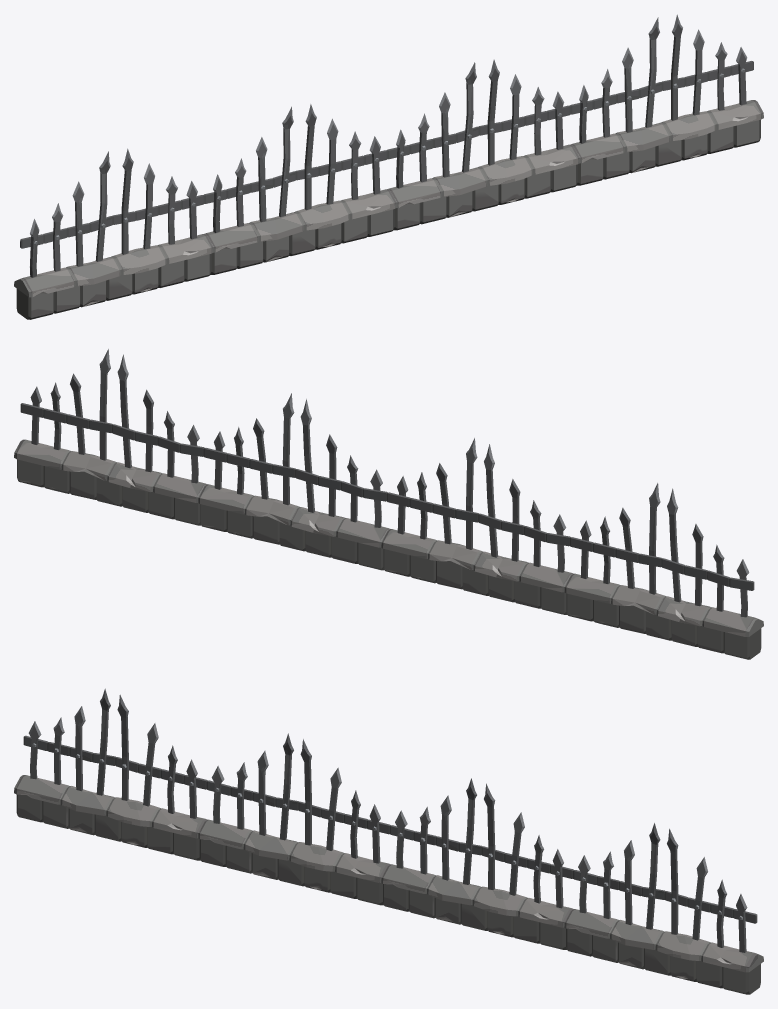
File: crypt_fence.gltf
3 renders of one model, top to bottom at view 1: azimuth 30°, elevation 25°; view 2: azimuth 150°, elevation 25°; view 3: azimuth 330°, elevation 25°, orthographic.
Visible parts, largest first — view 1: crypt_fence; view 2: crypt_fence; view 3: crypt_fence.
Boxes of the visible parts, bbox=[...] form: crypt_fence: bbox=[14, 14, 763, 319]; crypt_fence: bbox=[14, 349, 763, 659]; crypt_fence: bbox=[14, 688, 763, 994].
Bounding box in the file's own units: 10.03 × 1.91 × 0.4143.
1 material, 1 textured.
